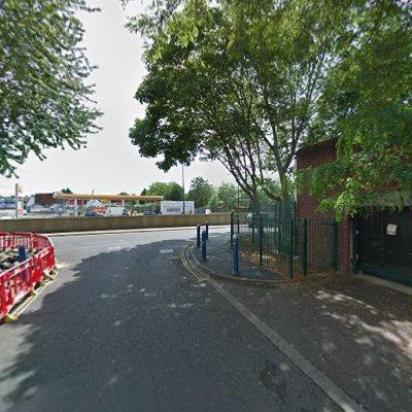x_other: (0, 230, 58, 328)
